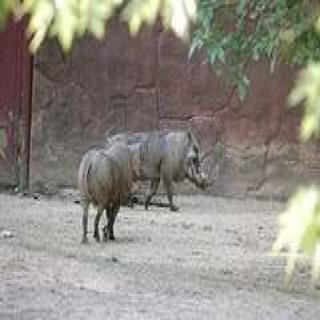Pig: (60, 121, 166, 237)
